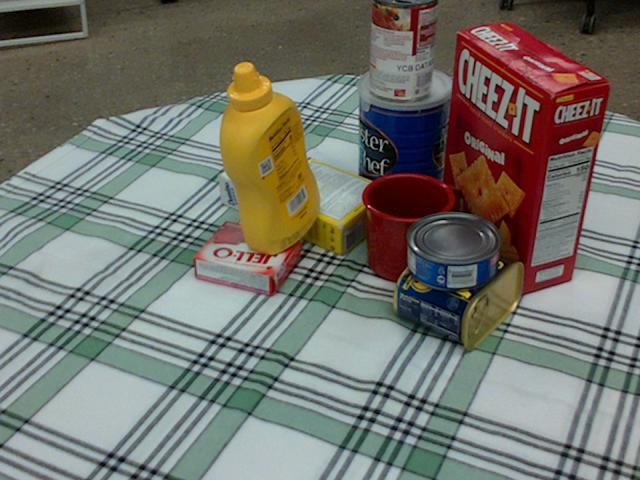cracker_box: (439, 22, 612, 291)
gelatin_box: (193, 222, 302, 297)
master_chef_can: (356, 64, 453, 218)
mug: (362, 173, 459, 283)
mustard_bottle: (219, 62, 319, 254)
potted_meat_can: (395, 233, 527, 346)
sugar_box: (216, 141, 390, 255)
tomato_soup_can: (370, 0, 438, 101)
tuna_fish_can: (406, 213, 501, 290)
